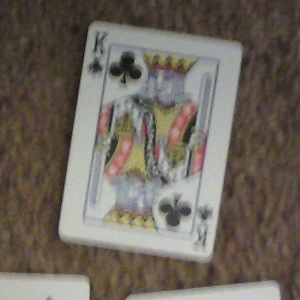card: (57, 19, 243, 262)
